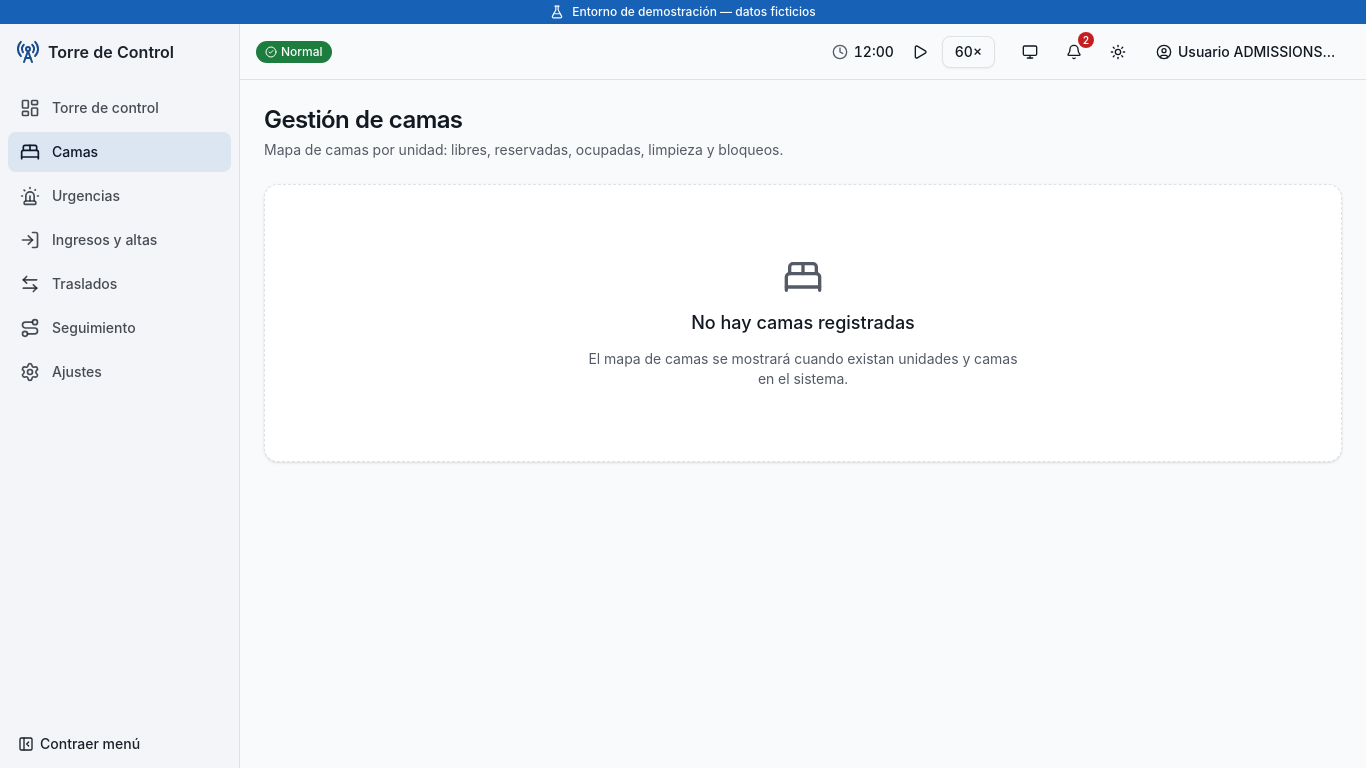
Test case: alert centre › lists open alerts, most severe first, with Spanish text, age and area
Click the button named "Alertas: 2 alertas sin reconocer (crítica)" at {"x": 1074, "y": 52}, box [1056,34,1092,70]
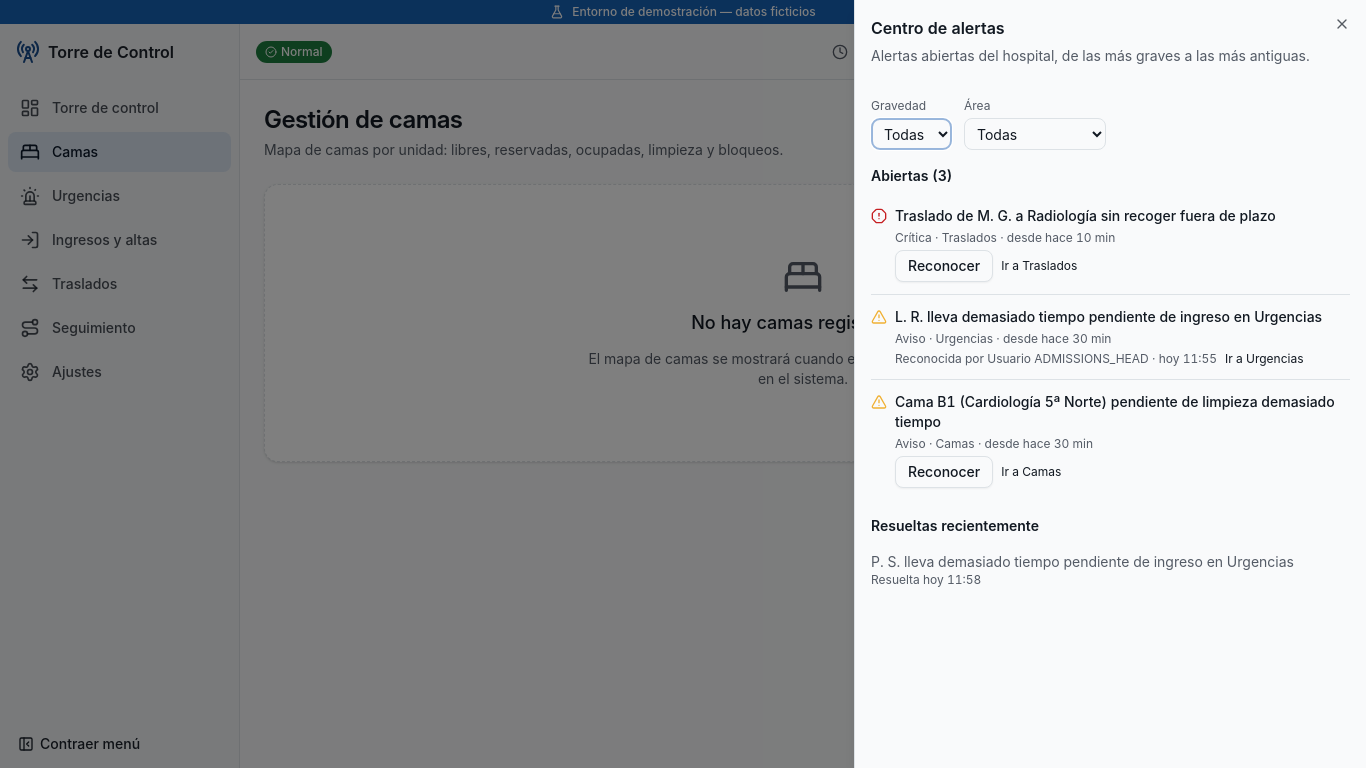
Now the 1st list item shows "Crítica", box [895,230,932,245]
Now the 1st list item shows "Traslados", box [932,230,997,245]
